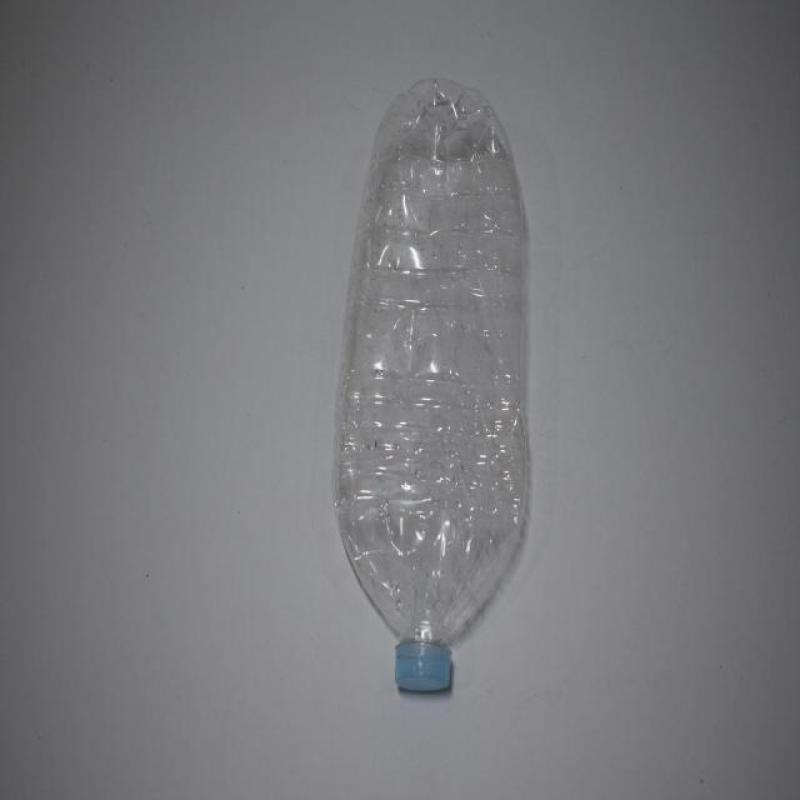botella: (334, 76, 528, 692)
